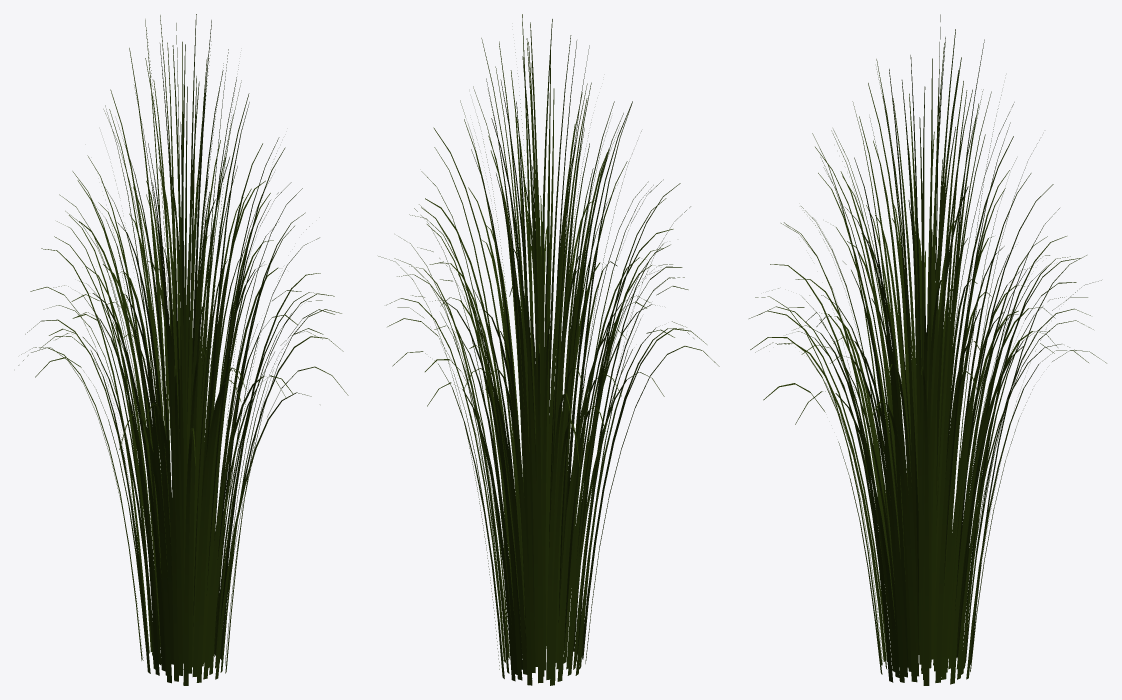
Rendered from Gras 2.FBX.
3 renders of one model, left to right at view 1: azimuth 30°, elevation 25°; view 2: azimuth 150°, elevation 25°; view 3: azimuth 270°, elevation 25°, orthographic.
Parts seen in each view (by area): view 1: Gras Beispiel 2; view 2: Gras Beispiel 2; view 3: Gras Beispiel 2.
Boxes of the visible parts, x1,y1,x2,y2 form: Gras Beispiel 2: (18, 14, 348, 685); Gras Beispiel 2: (378, 14, 719, 685); Gras Beispiel 2: (749, 14, 1106, 685).
Bounding box in the file's own units: 37.47 × 85.22 × 42.8.
